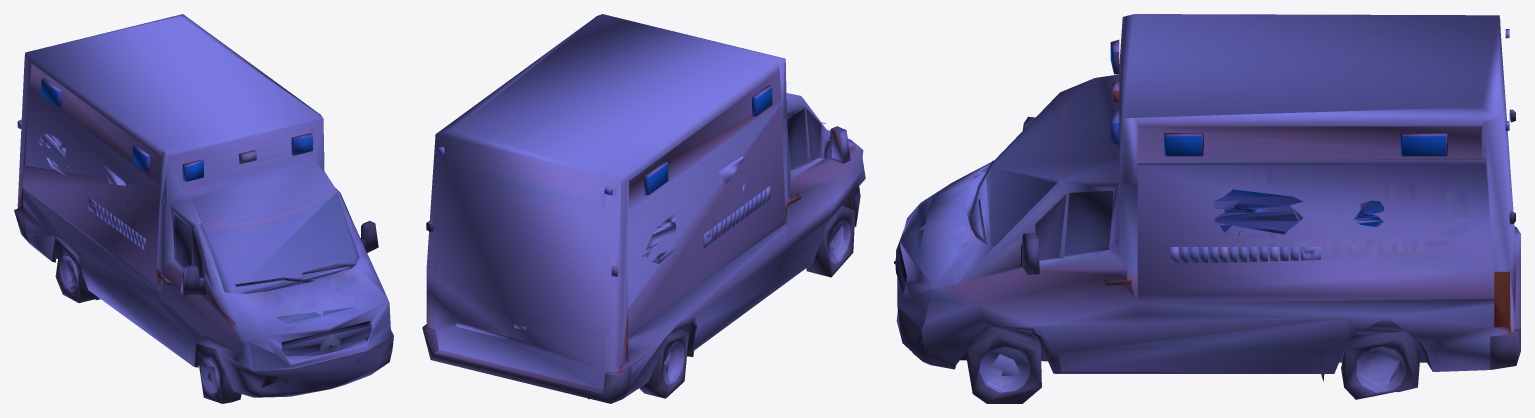
Rendered from model.progressive.glb.
The picture shows the model from 3 angles, left to right: view 1: azimuth 30°, elevation 25°; view 2: azimuth 150°, elevation 25°; view 3: azimuth 270°, elevation 25°; orthographic projection. The views are drawn at different scales.
Visible parts, largest first — view 1: material; view 2: material; view 3: material.
Part boxes in pixels (<box>): material: <box>14,14,393,403</box>; material: <box>422,14,865,403</box>; material: <box>894,14,1520,403</box>.
Size of the model in its own units: 0.908 by 0.9724 by 1.89.
1 material, 1 textured.
